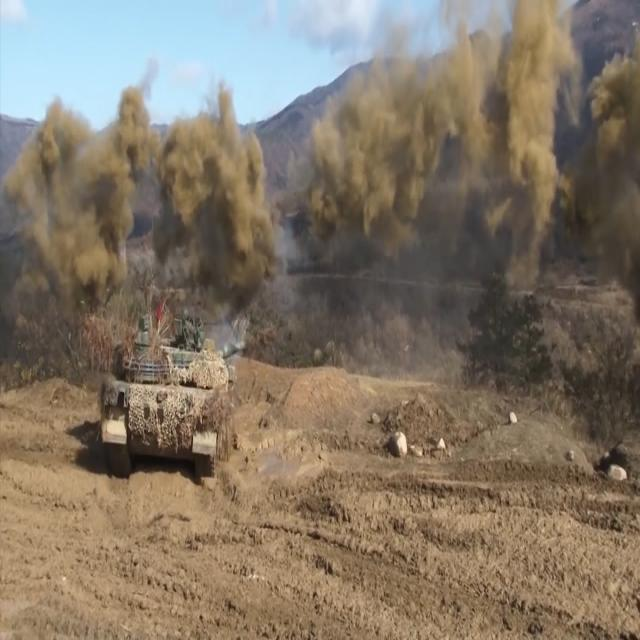korea tank: (78, 311, 274, 485)
